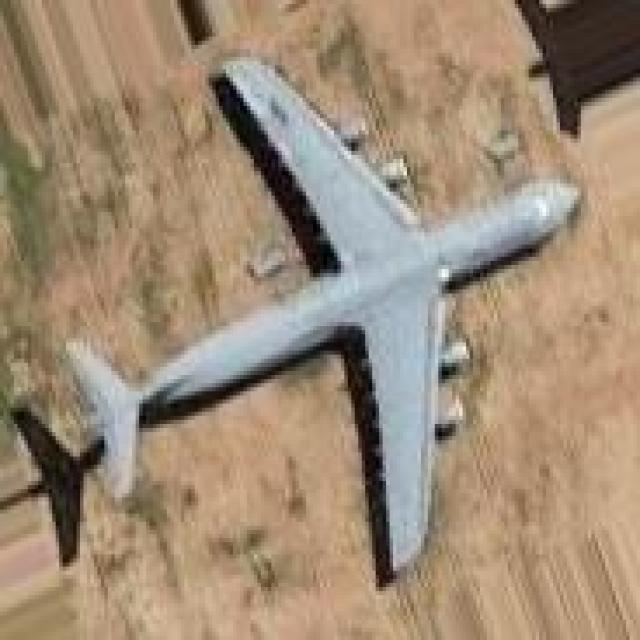C-5_TopDown: (56, 49, 581, 587)
